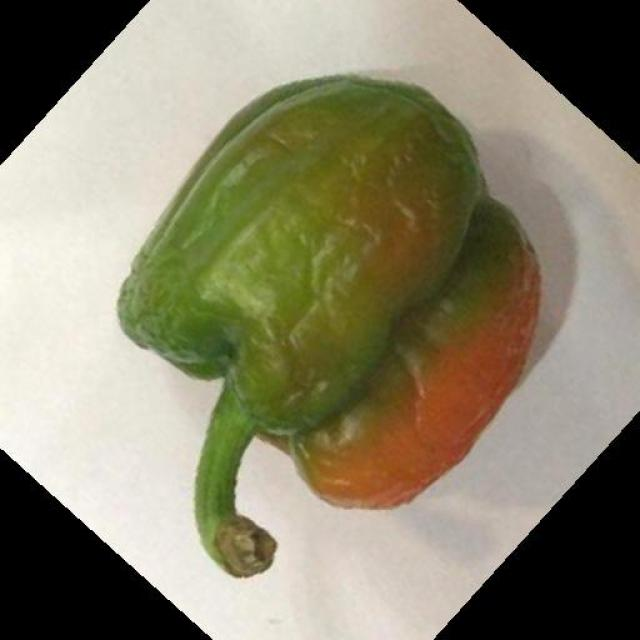Stale_Capsicum: (157, 67, 506, 495)
